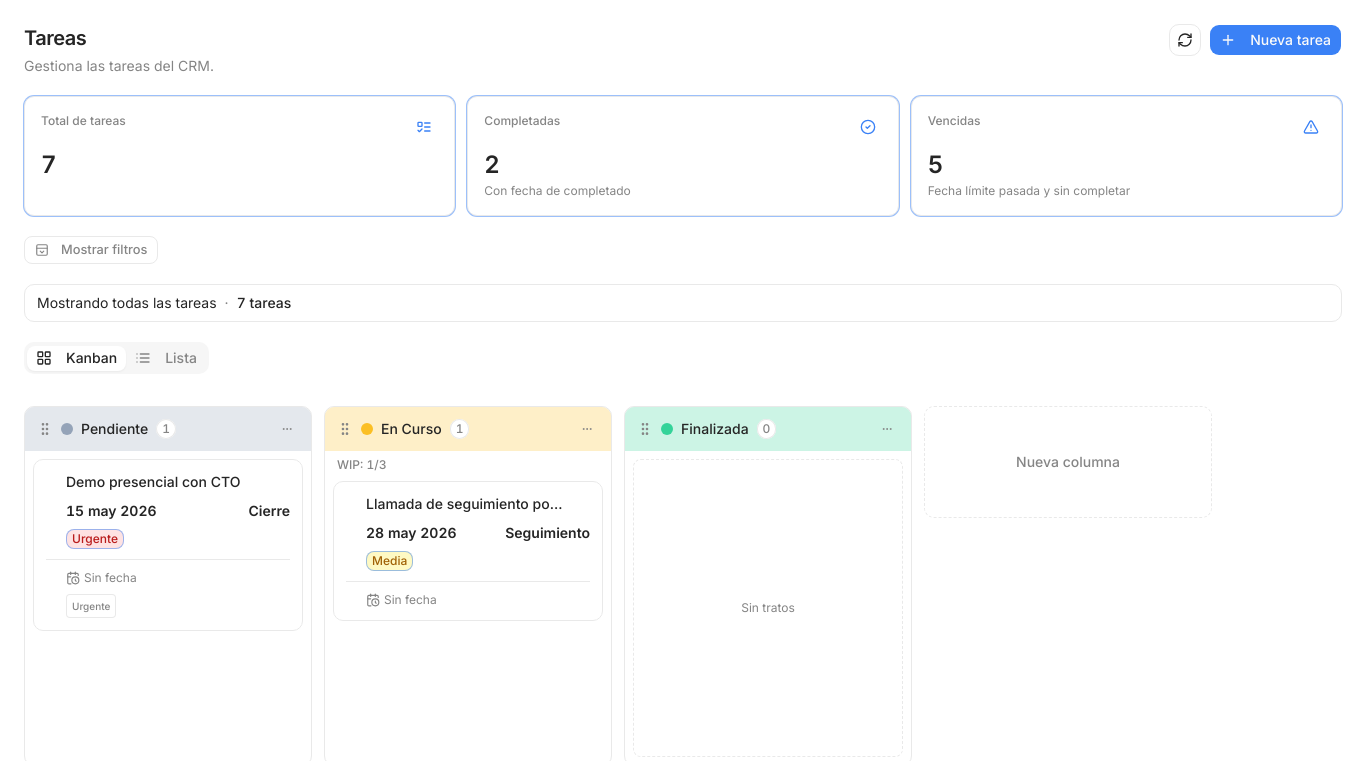
Test case: TareasListPage — presets y Kanban filtrado › los filtros también aplican al Kanban de tareas
Expected: the link "Demo presencial con CTO" is shown, [66, 472, 264, 492]
Expected: the link "Llamada de seguimiento post-demo" is shown, [366, 494, 564, 514]
Click the button "Mostrar filtros": (91, 250) [24, 236, 158, 264]
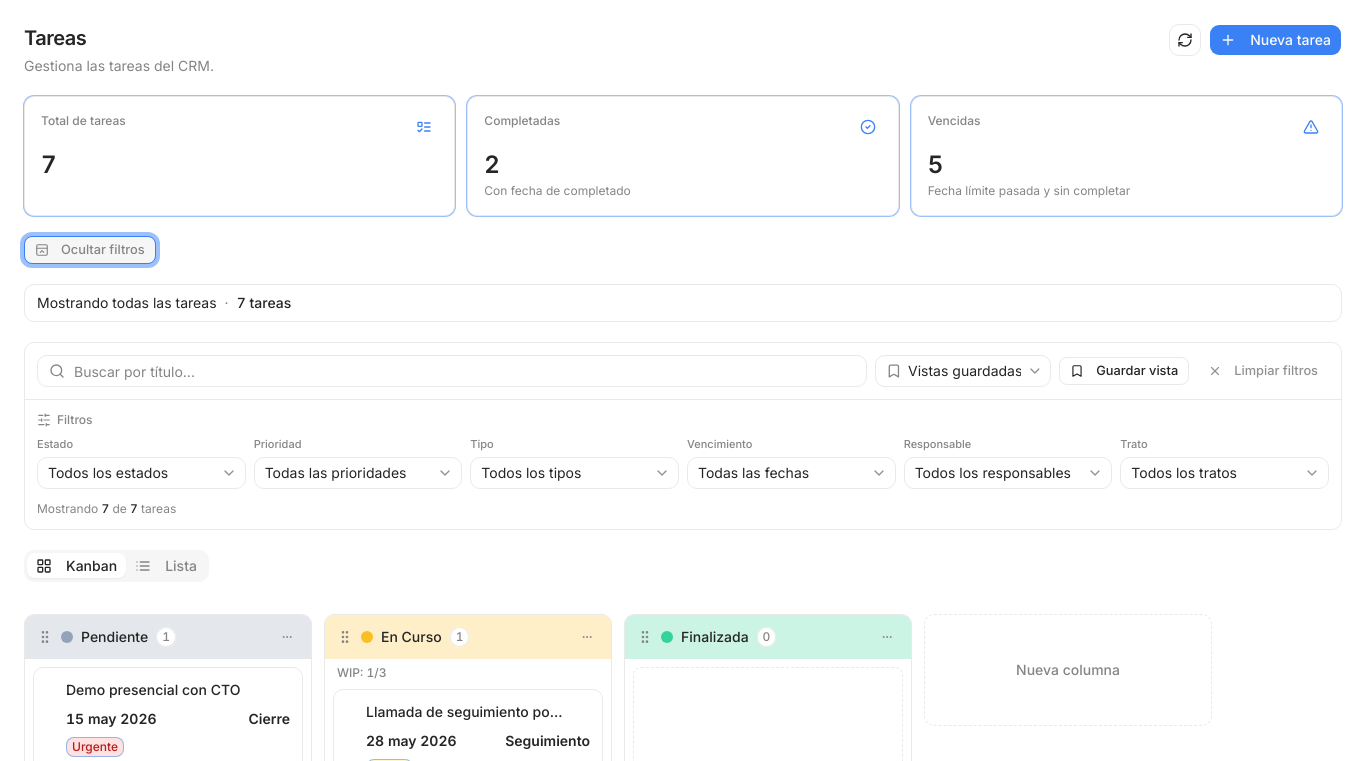
Result: the button named "mostrar filtros" is expanded at [24, 236, 156, 264]
In the field with placeholder "Buscar por título...": (452, 371) [37, 355, 867, 387], type "llamada"
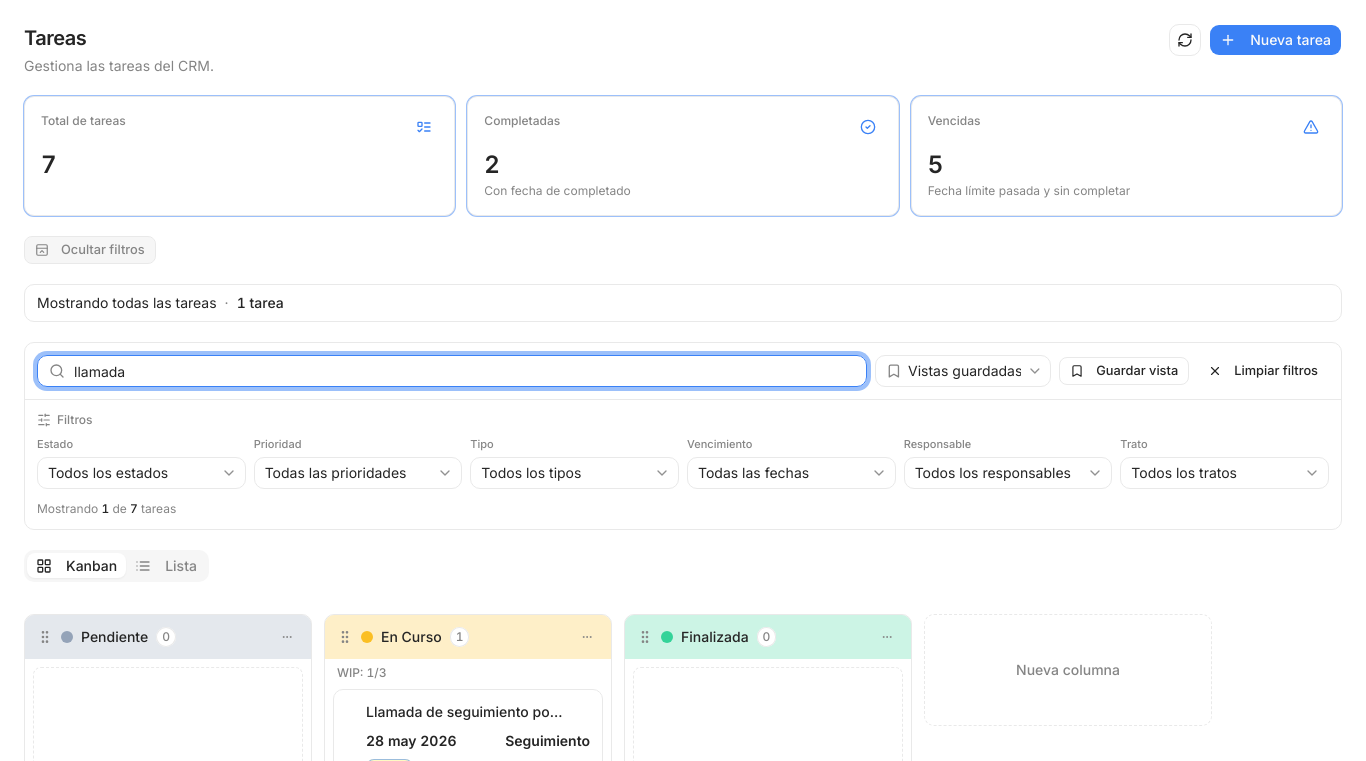
Expected: the link "Llamada de seguimiento post-demo" is shown, [366, 702, 564, 722]
Result: the link "Demo presencial con CTO" is gone
